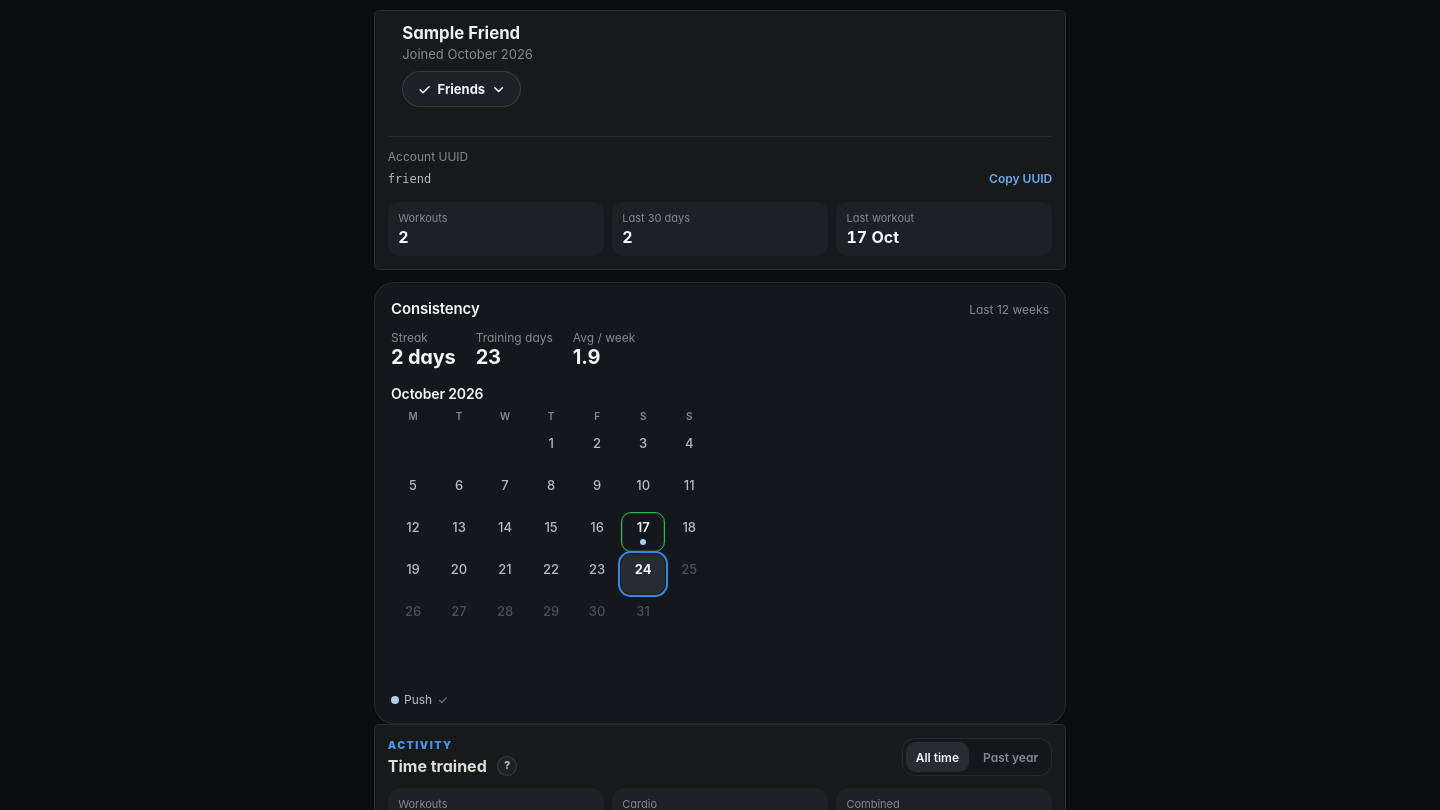
Test: shared profile friend control › asks before blocking, then explains where to unblock
Click the button "Friends": (461, 89) [402,71,520,107]
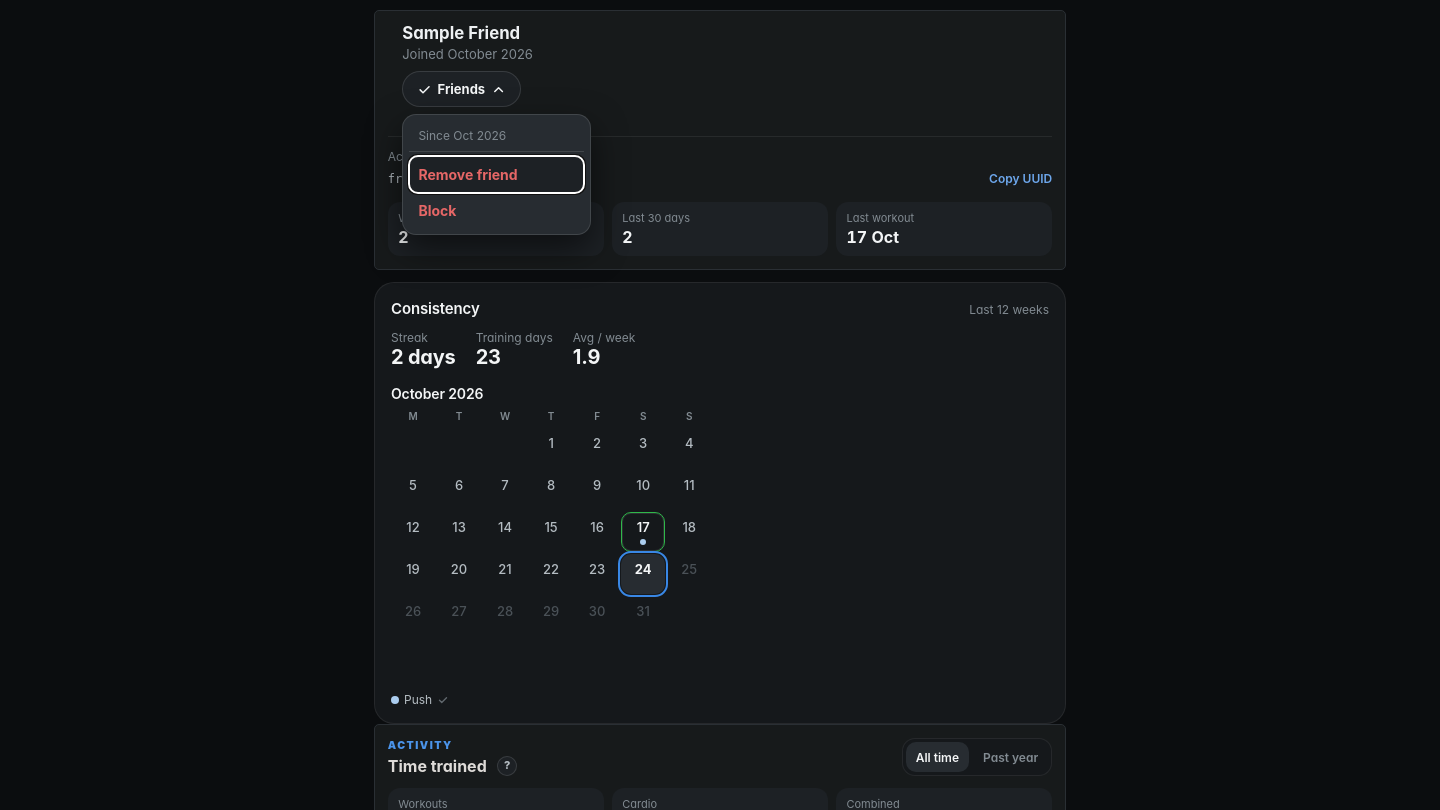
Click the menu item "Block": (497, 211) [409,192,584,229]
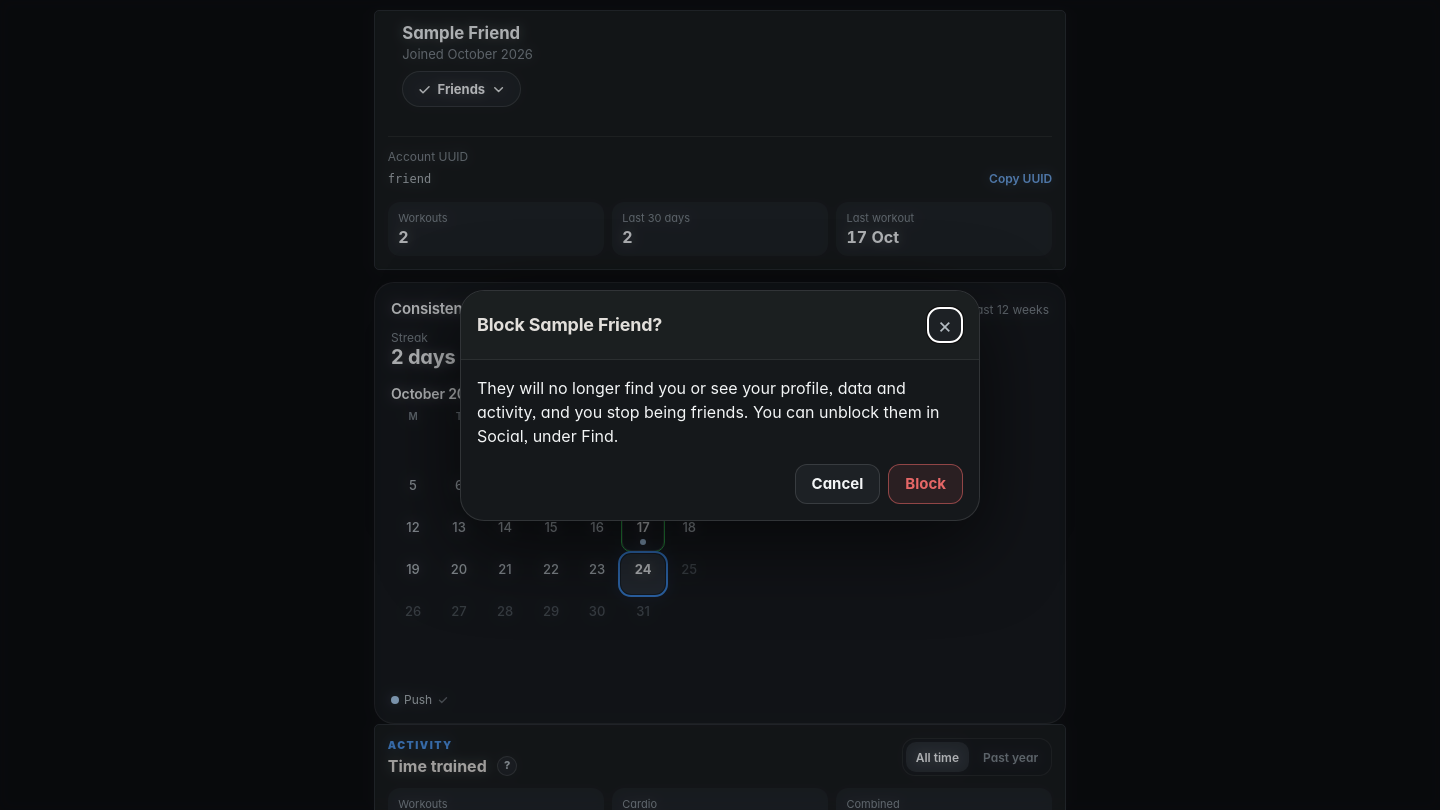
Expected: the dialog shows "Block Sample Friend?", [477,314,662,335]
Expected: the dialog shows "unblock them in Social, under Find", [477,378,940,446]
Click the button "Block": (926, 484) [888,464,963,504]
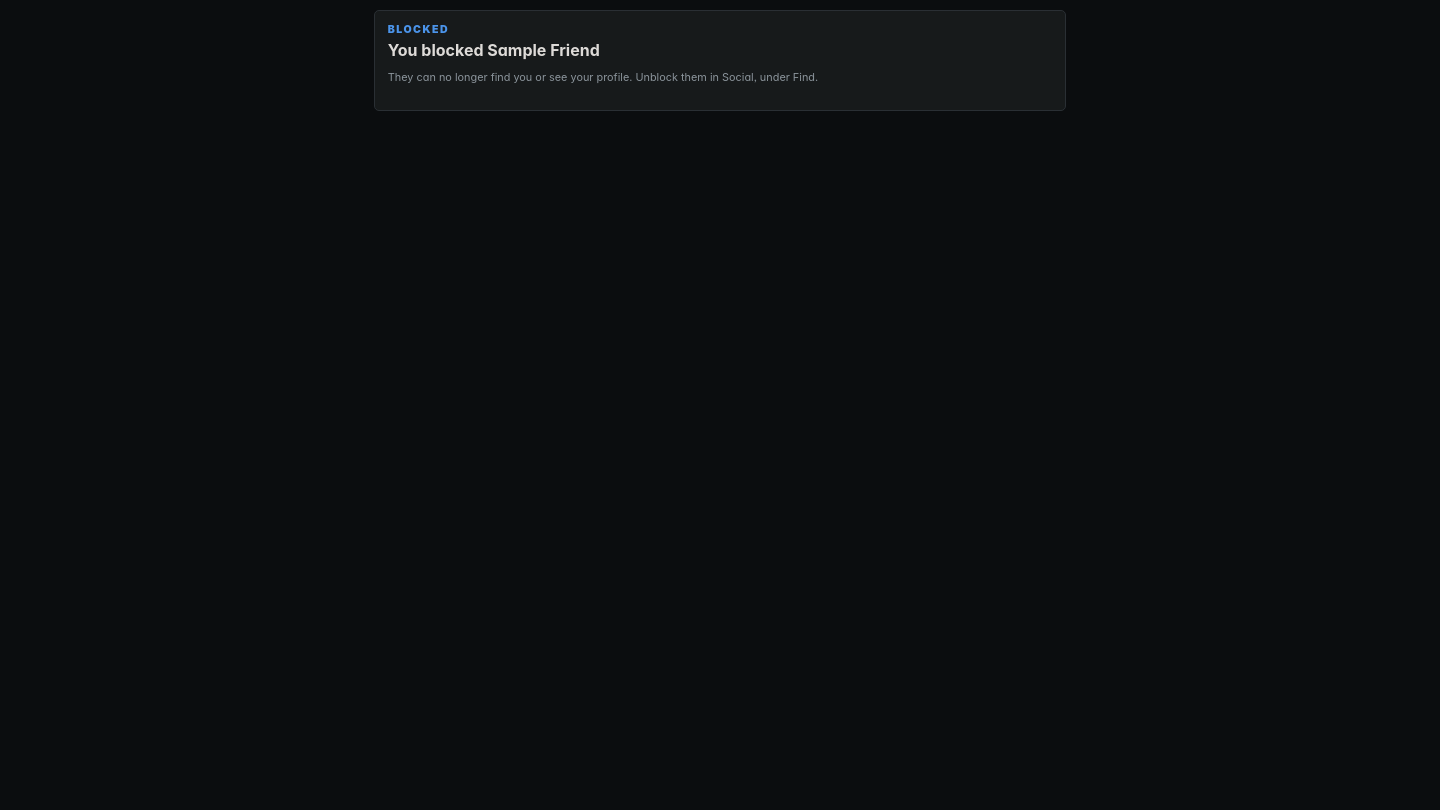
Expected: the text "You blocked Sample Friend" is shown, [388,40,600,60]
